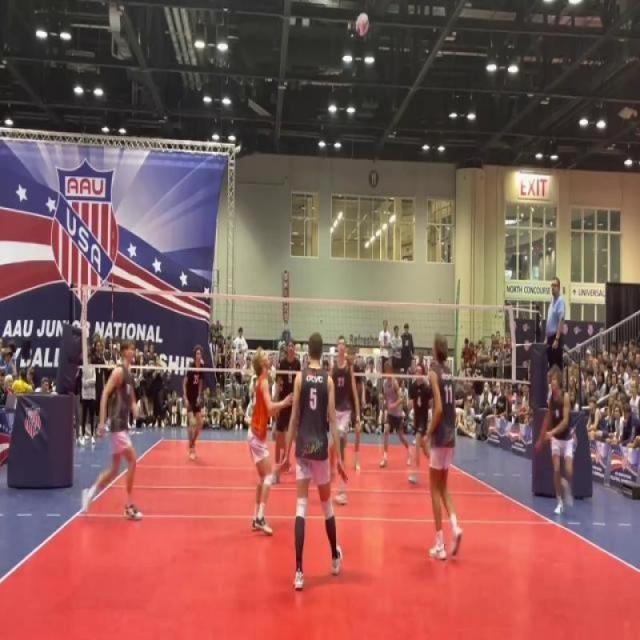volleyball: (355, 12, 370, 39)
